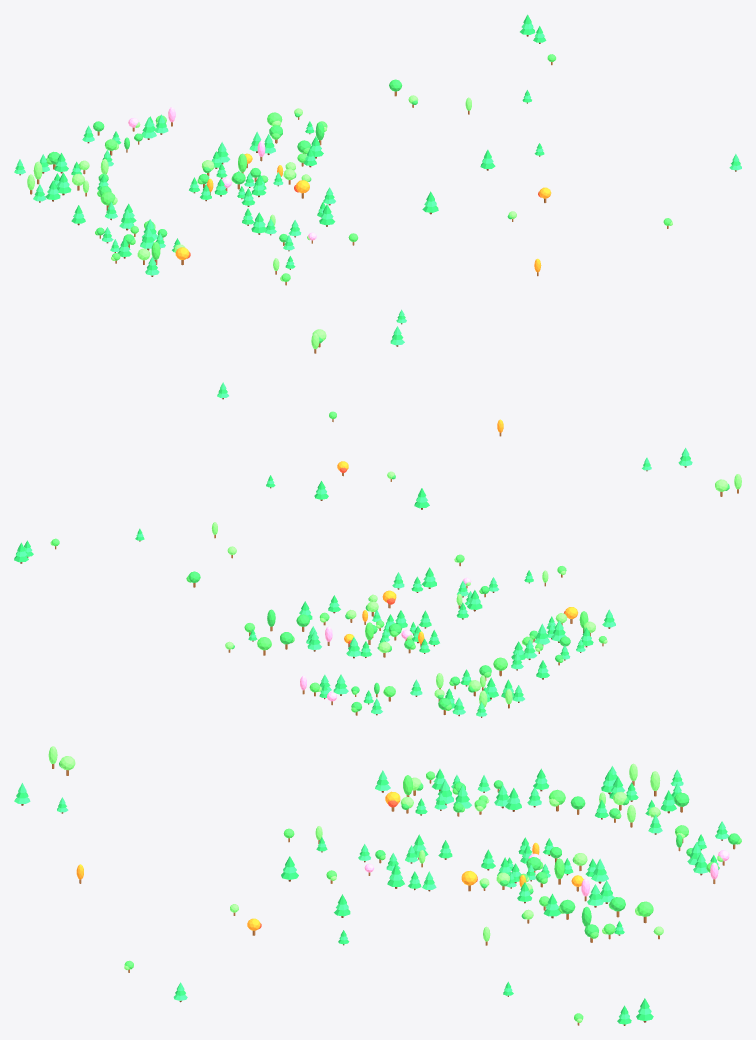
File: course_trees_3.glb
3 renders of one model, top to bottom at view 1: azimuth 30°, elevation 25°; view 2: azimuth 150°, elevation 25°; view 3: azimuth 270°, elevation 25°, orthographic. The views are drawn at different scales.
Parts seen in each view (by area): view 1: course_trees_3; view 2: course_trees_3; view 3: course_trees_3.
Boxes of the visible parts, bbox=[...] form: course_trees_3: bbox=[14, 14, 741, 353]; course_trees_3: bbox=[14, 382, 741, 717]; course_trees_3: bbox=[14, 746, 741, 1025].
Size of the model in its own units: 195 by 24.84 by 212.
1 material, 1 textured.
